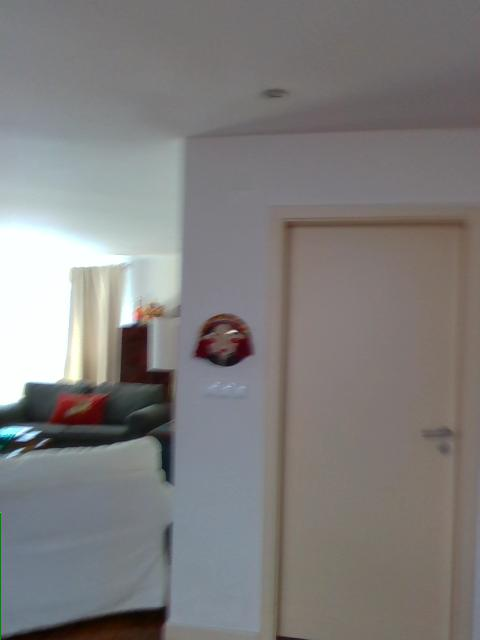door: (255, 203, 478, 637)
